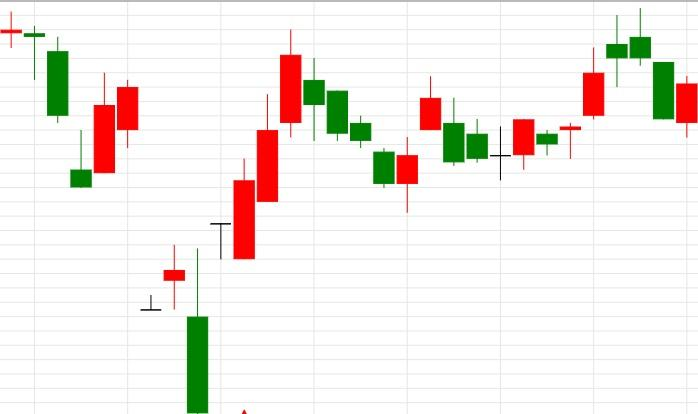bullish_engulfing_rise: (303, 58, 418, 214)
shooting_star_fall: (536, 7, 651, 159)
